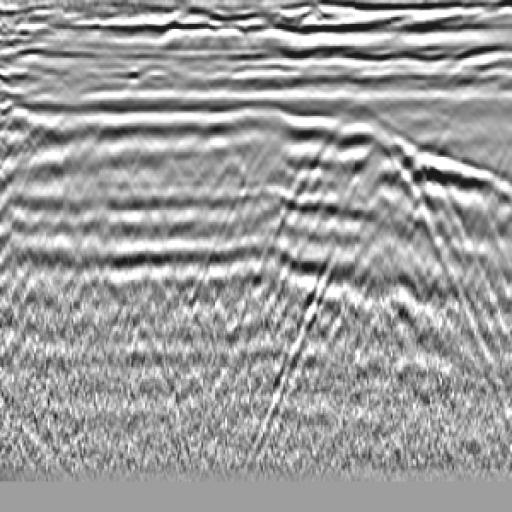non-metallic: (242, 102, 501, 439)
